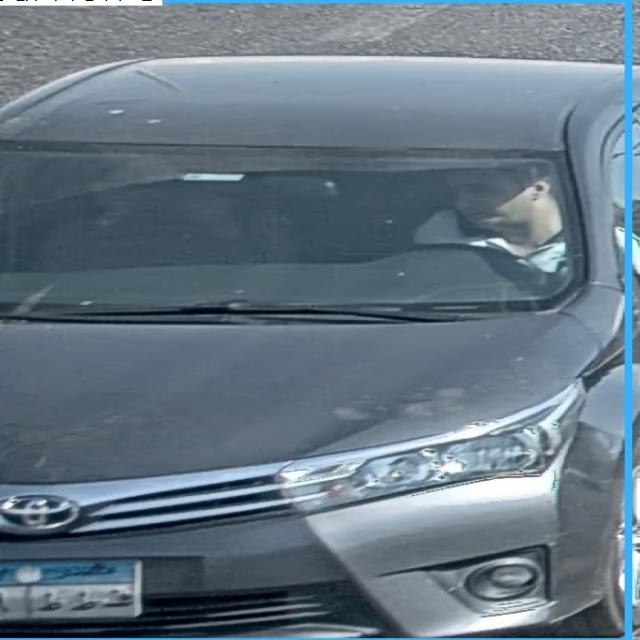windshield: (5, 142, 606, 304)
